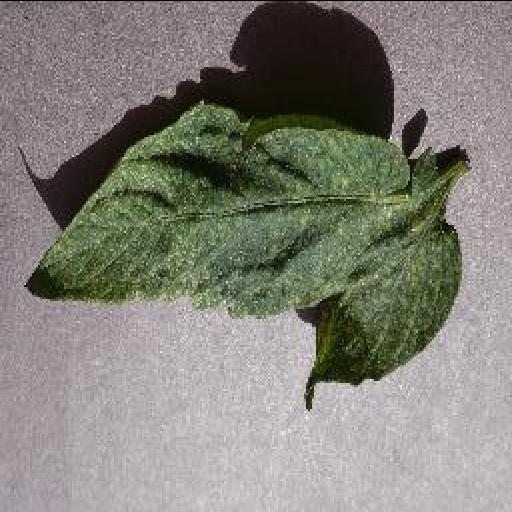disease_tomato: (26, 98, 462, 410)
